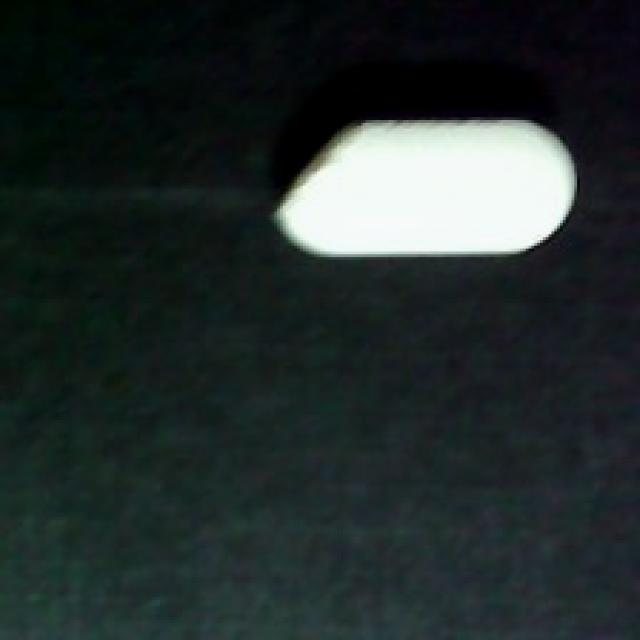defected: (269, 106, 577, 274)
